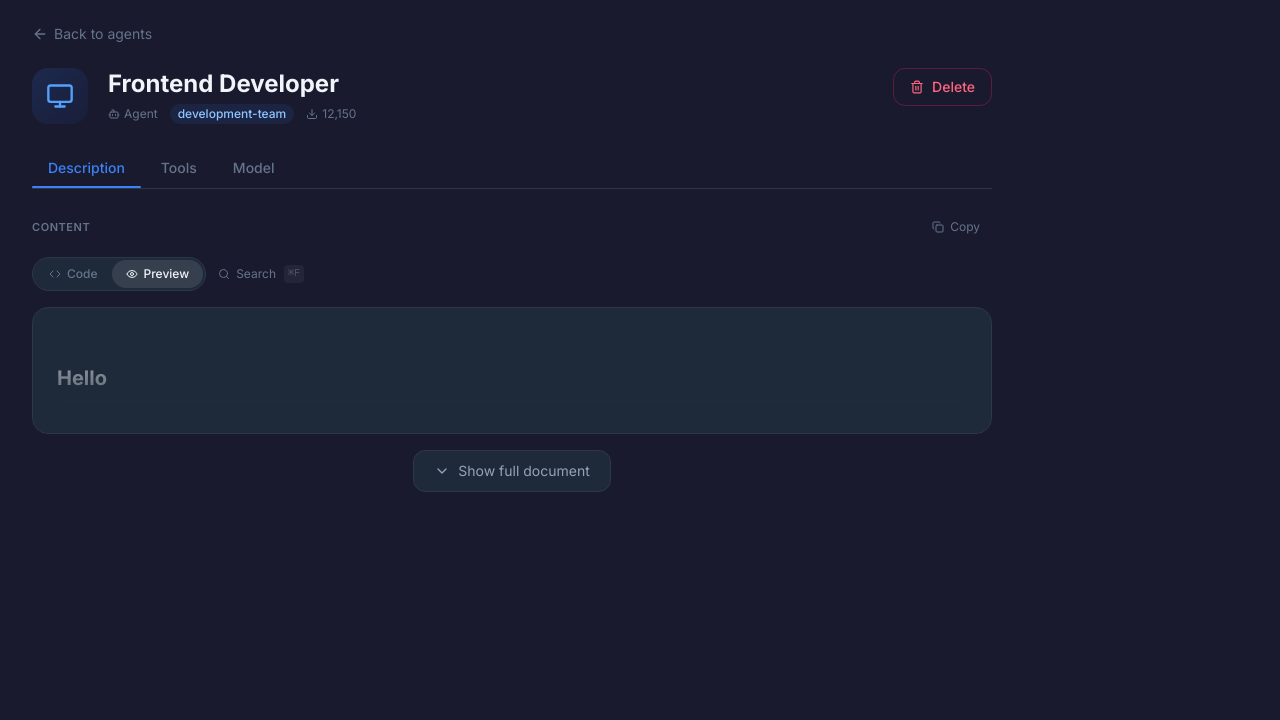
Test: AgentDetailPage delete flow with references › opens the references modal when at least one active ticket references the agent
Click the button with aria-label "delete this agent": x=943, y=87 [893,68,992,106]
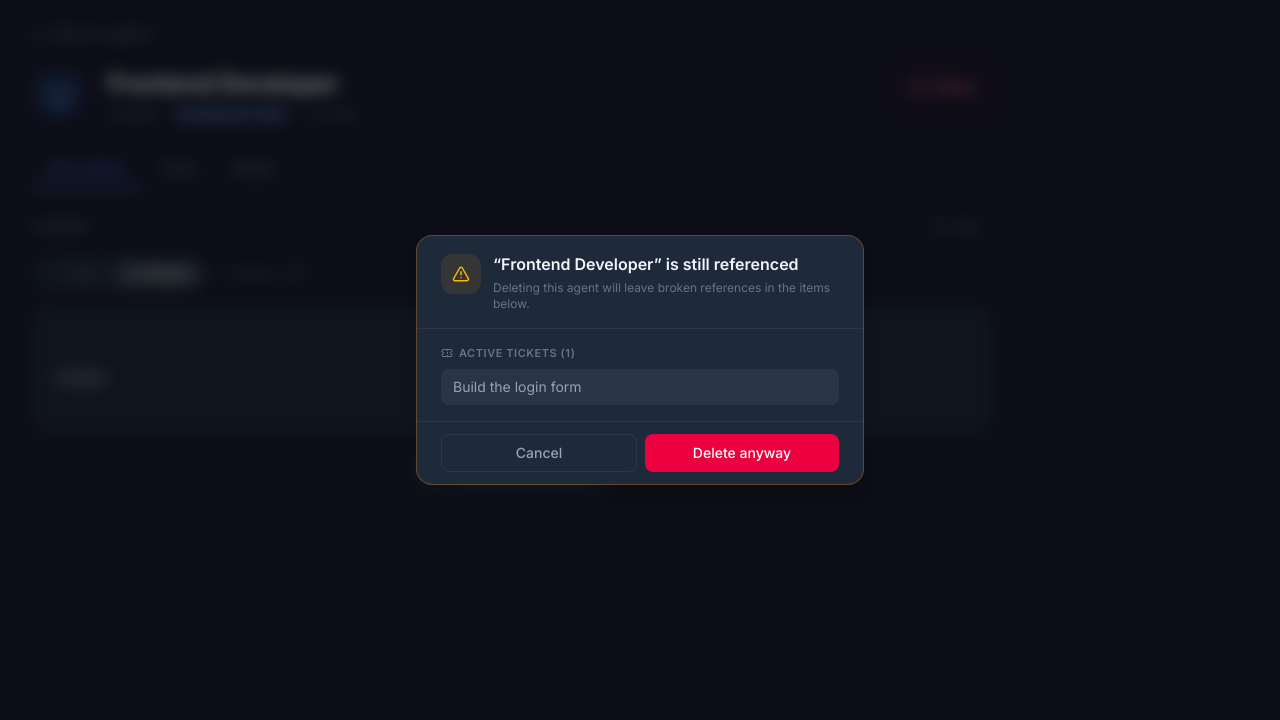
Result: the button "Delete anyway" is shown at [645,434,839,472]
Result: the list item "Build the login form" is shown at [441,369,839,405]
